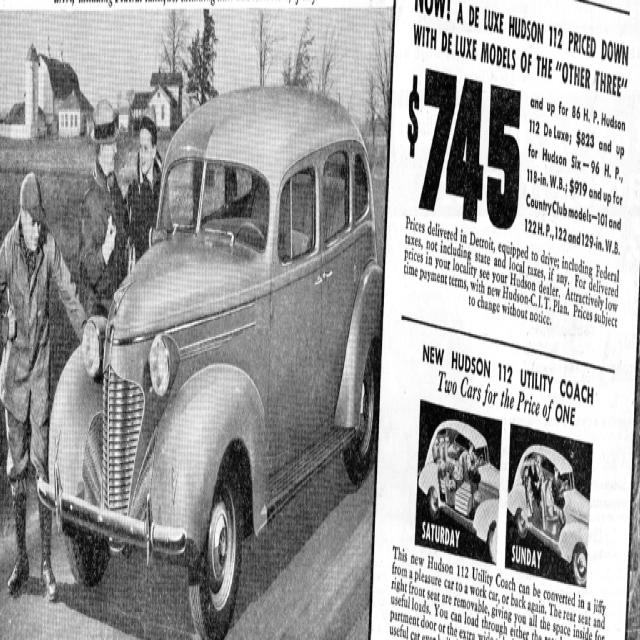car: (34, 78, 381, 637)
